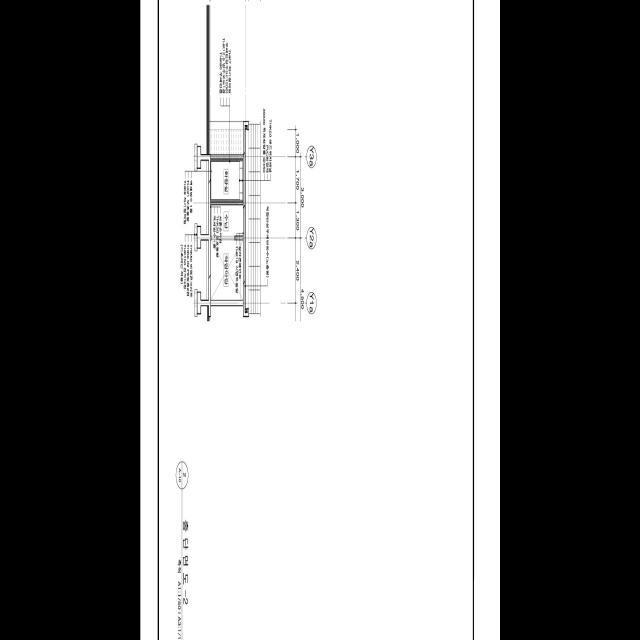background: (140, 0, 500, 640)
space_other: (210, 240, 243, 300), (211, 205, 243, 236)
space_toilet: (210, 159, 243, 202)
